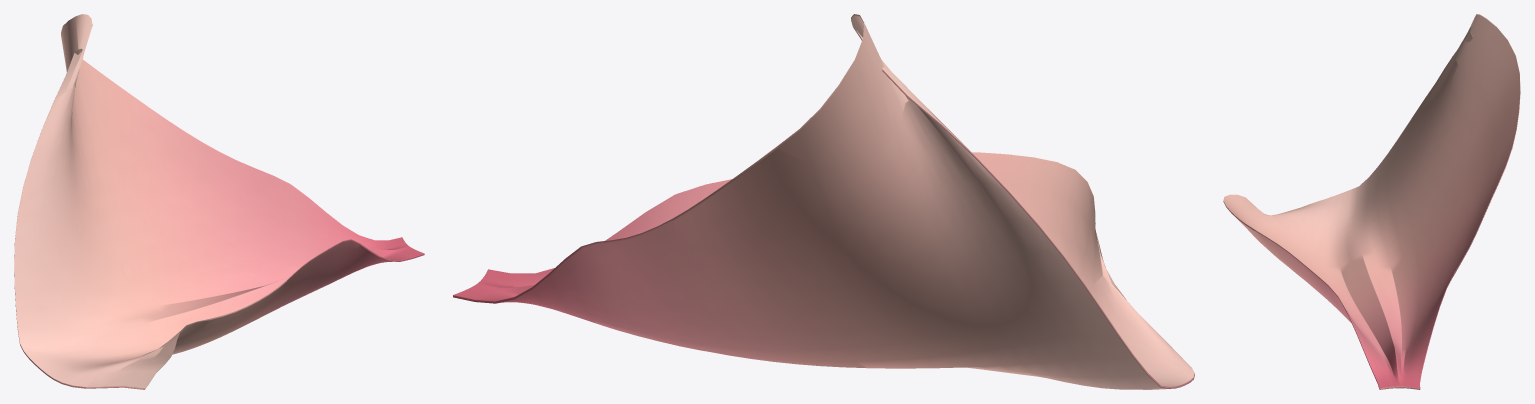
The model's file is papri4.glb.
3 views of the same model, side by side, from view 1: azimuth 30°, elevation 25°; view 2: azimuth 150°, elevation 25°; view 3: azimuth 270°, elevation 25° (orthographic). The views are drawn at different scales.
Visible parts, largest first — view 1: Papri_04; view 2: Papri_04; view 3: Papri_04.
Part boxes in pixels (<box>): Papri_04: <box>14,14,424,389</box>; Papri_04: <box>453,14,1194,389</box>; Papri_04: <box>1223,14,1520,389</box>.
Bounding box in the file's own units: 1.19 × 0.7736 × 0.8097.
1 material, 1 textured.
